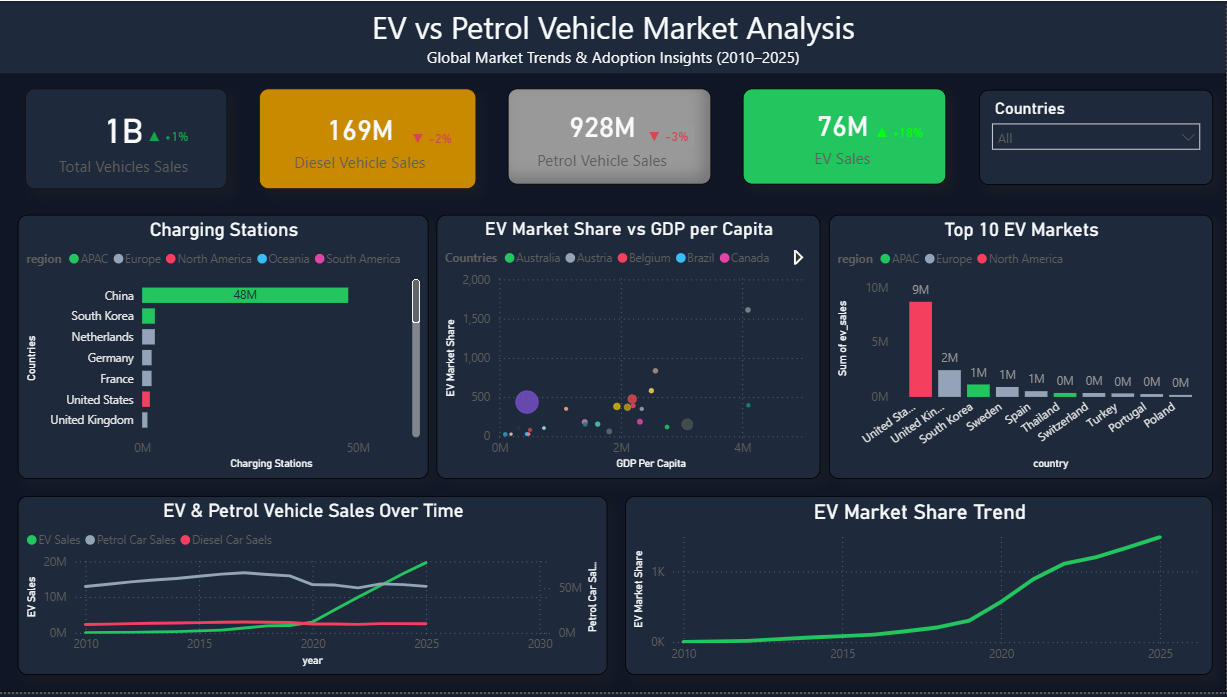

The page's visual inventory and layout, read from the dashboard file:
{"tool":"powerbi","page":{"name":"Page 1","canvas":[1280,720],"ordinal":0},"visuals":[{"type":"textbox","box":[0,0,1280.3,75.5],"z":0},{"type":"card","title":"Total EV Sales","fields":{"Values":["ev_vs_petrol_dataset_v3.EV Sales (M)"]},"box":[775.6,91.2,212.4,99.8],"z":1000},{"type":"card","fields":{"Values":["Sum(ev_vs_petrol_dataset_v3.petrol_car_sales)"]},"box":[530.2,91.2,212.4,99.7],"z":2000},{"type":"card","fields":{"Values":["Sum(ev_vs_petrol_dataset_v3.diesel_car_sales)"]},"box":[271.1,91.2,226.1,104.8],"z":3000},{"type":"textbox","box":[132.5,674.9,16,12.3],"z":4000},{"type":"slicer","fields":{"Values":["ev_vs_petrol_dataset_v3.country"]},"box":[1020.9,92,244.2,99.4],"z":5000},{"type":"barChart","title":"Charging Stations","fields":{"Category":["ev_vs_petrol_dataset_v3.country"],"Y":["Sum(ev_vs_petrol_dataset_v3.charging_stations)"],"Series":["ev_vs_petrol_dataset_v3.region"]},"box":[19.6,222.1,428.2,274.8],"z":6000},{"type":"lineChart","title":"EV & Petrol Vehicle Sales Over Time","fields":{"Category":["ev_vs_petrol_dataset_v3.year"],"Y":["Sum(ev_vs_petrol_dataset_v3.ev_sales)"],"Y2":["Sum(ev_vs_petrol_dataset_v3.petrol_car_sales)","Sum(ev_vs_petrol_dataset_v3.diesel_car_sales)"]},"box":[19.6,515.3,614.7,186.5],"z":7000},{"type":"card","fields":{"Values":["ev_vs_petrol_dataset_v3.Total Vehicles KPI"]},"box":[27.5,91.2,210.6,104.7],"z":8000},{"type":"lineChart","title":"EV Market Share Trend","fields":{"Category":["ev_vs_petrol_dataset_v3.year"],"Y":["Sum(ev_vs_petrol_dataset_v3.ev_market_share)"]},"box":[652.8,515.3,612.3,186.5],"z":9000},{"type":"scatterChart","title":"EV Market Share vs GDP per Capita","fields":{"X":["Sum(ev_vs_petrol_dataset_v3.gdp_per_capita)"],"Y":["Sum(ev_vs_petrol_dataset_v3.ev_market_share)"],"Size":["Sum(ev_vs_petrol_dataset_v3.ev_sales)"],"Category":["ev_vs_petrol_dataset_v3.country"],"Series":["ev_vs_petrol_dataset_v3.country"]},"box":[456.4,222.1,400,274.8],"z":10000},{"type":"columnChart","title":"Top 10 EV Markets","fields":{"Category":["ev_vs_petrol_dataset_v3.country"],"Series":["ev_vs_petrol_dataset_v3.region"],"Y":["Sum(ev_vs_petrol_dataset_v3.ev_sales)"]},"box":[864.8,222.7,399.8,274.8],"z":13000},{"type":"card","fields":{"Values":["ev_vs_petrol_dataset_v3.EV Growth Indicator"]},"box":[908,121.5,60.1,35.6],"z":14000},{"type":"card","fields":{"Values":["ev_vs_petrol_dataset_v3.Petrol Growth Indicator"]},"box":[669.9,127,55.2,25.8],"z":15000},{"type":"card","fields":{"Values":["ev_vs_petrol_dataset_v3.Diesel Growth Indicator"]},"box":[417.2,130.1,61.4,28.2],"z":16000},{"type":"card","fields":{"Values":["ev_vs_petrol_dataset_v3.Total Vehicle Growth Indicator"]},"box":[148.5,127,55.2,25.8],"z":17000}]}

Visuals, with their boxes in screenshot pixels (x1, y1, x2, y2), scaled from the page's 1280x720 canvas onto the 1227x697 screenshot:
textbox: (left=0, top=0, right=1226, bottom=73)
"Total EV Sales" card: (left=743, top=88, right=947, bottom=185)
card - Sum(ev_vs_petrol_dataset_v3.petrol_car_sales): (left=508, top=88, right=712, bottom=185)
card - Sum(ev_vs_petrol_dataset_v3.diesel_car_sales): (left=260, top=88, right=477, bottom=190)
textbox: (left=127, top=653, right=142, bottom=665)
slicer - ev_vs_petrol_dataset_v3.country: (left=979, top=89, right=1213, bottom=185)
"Charging Stations" barChart: (left=19, top=215, right=429, bottom=481)
"EV & Petrol Vehicle Sales Over Time" lineChart: (left=19, top=499, right=608, bottom=679)
card - ev_vs_petrol_dataset_v3.Total Vehicles KPI: (left=26, top=88, right=228, bottom=190)
"EV Market Share Trend" lineChart: (left=626, top=499, right=1213, bottom=679)
"EV Market Share vs GDP per Capita" scatterChart: (left=438, top=215, right=821, bottom=481)
"Top 10 EV Markets" columnChart: (left=829, top=216, right=1212, bottom=482)
card - ev_vs_petrol_dataset_v3.EV Growth Indicator: (left=870, top=118, right=928, bottom=152)
card - ev_vs_petrol_dataset_v3.Petrol Growth Indicator: (left=642, top=123, right=695, bottom=148)
card - ev_vs_petrol_dataset_v3.Diesel Growth Indicator: (left=400, top=126, right=459, bottom=153)
card - ev_vs_petrol_dataset_v3.Total Vehicle Growth Indicator: (left=142, top=123, right=195, bottom=148)
